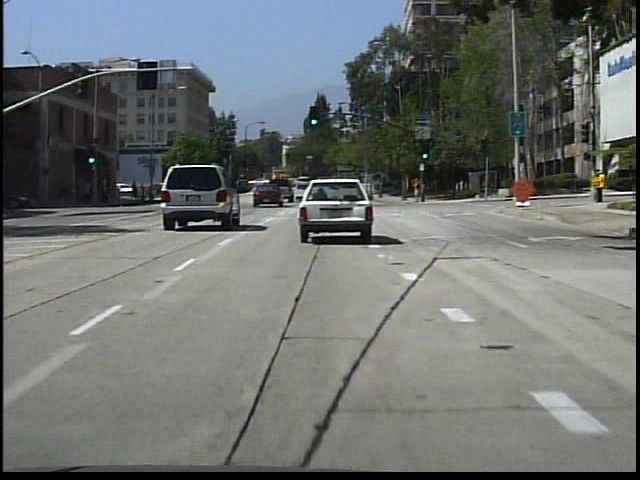person: (410, 174, 426, 209)
